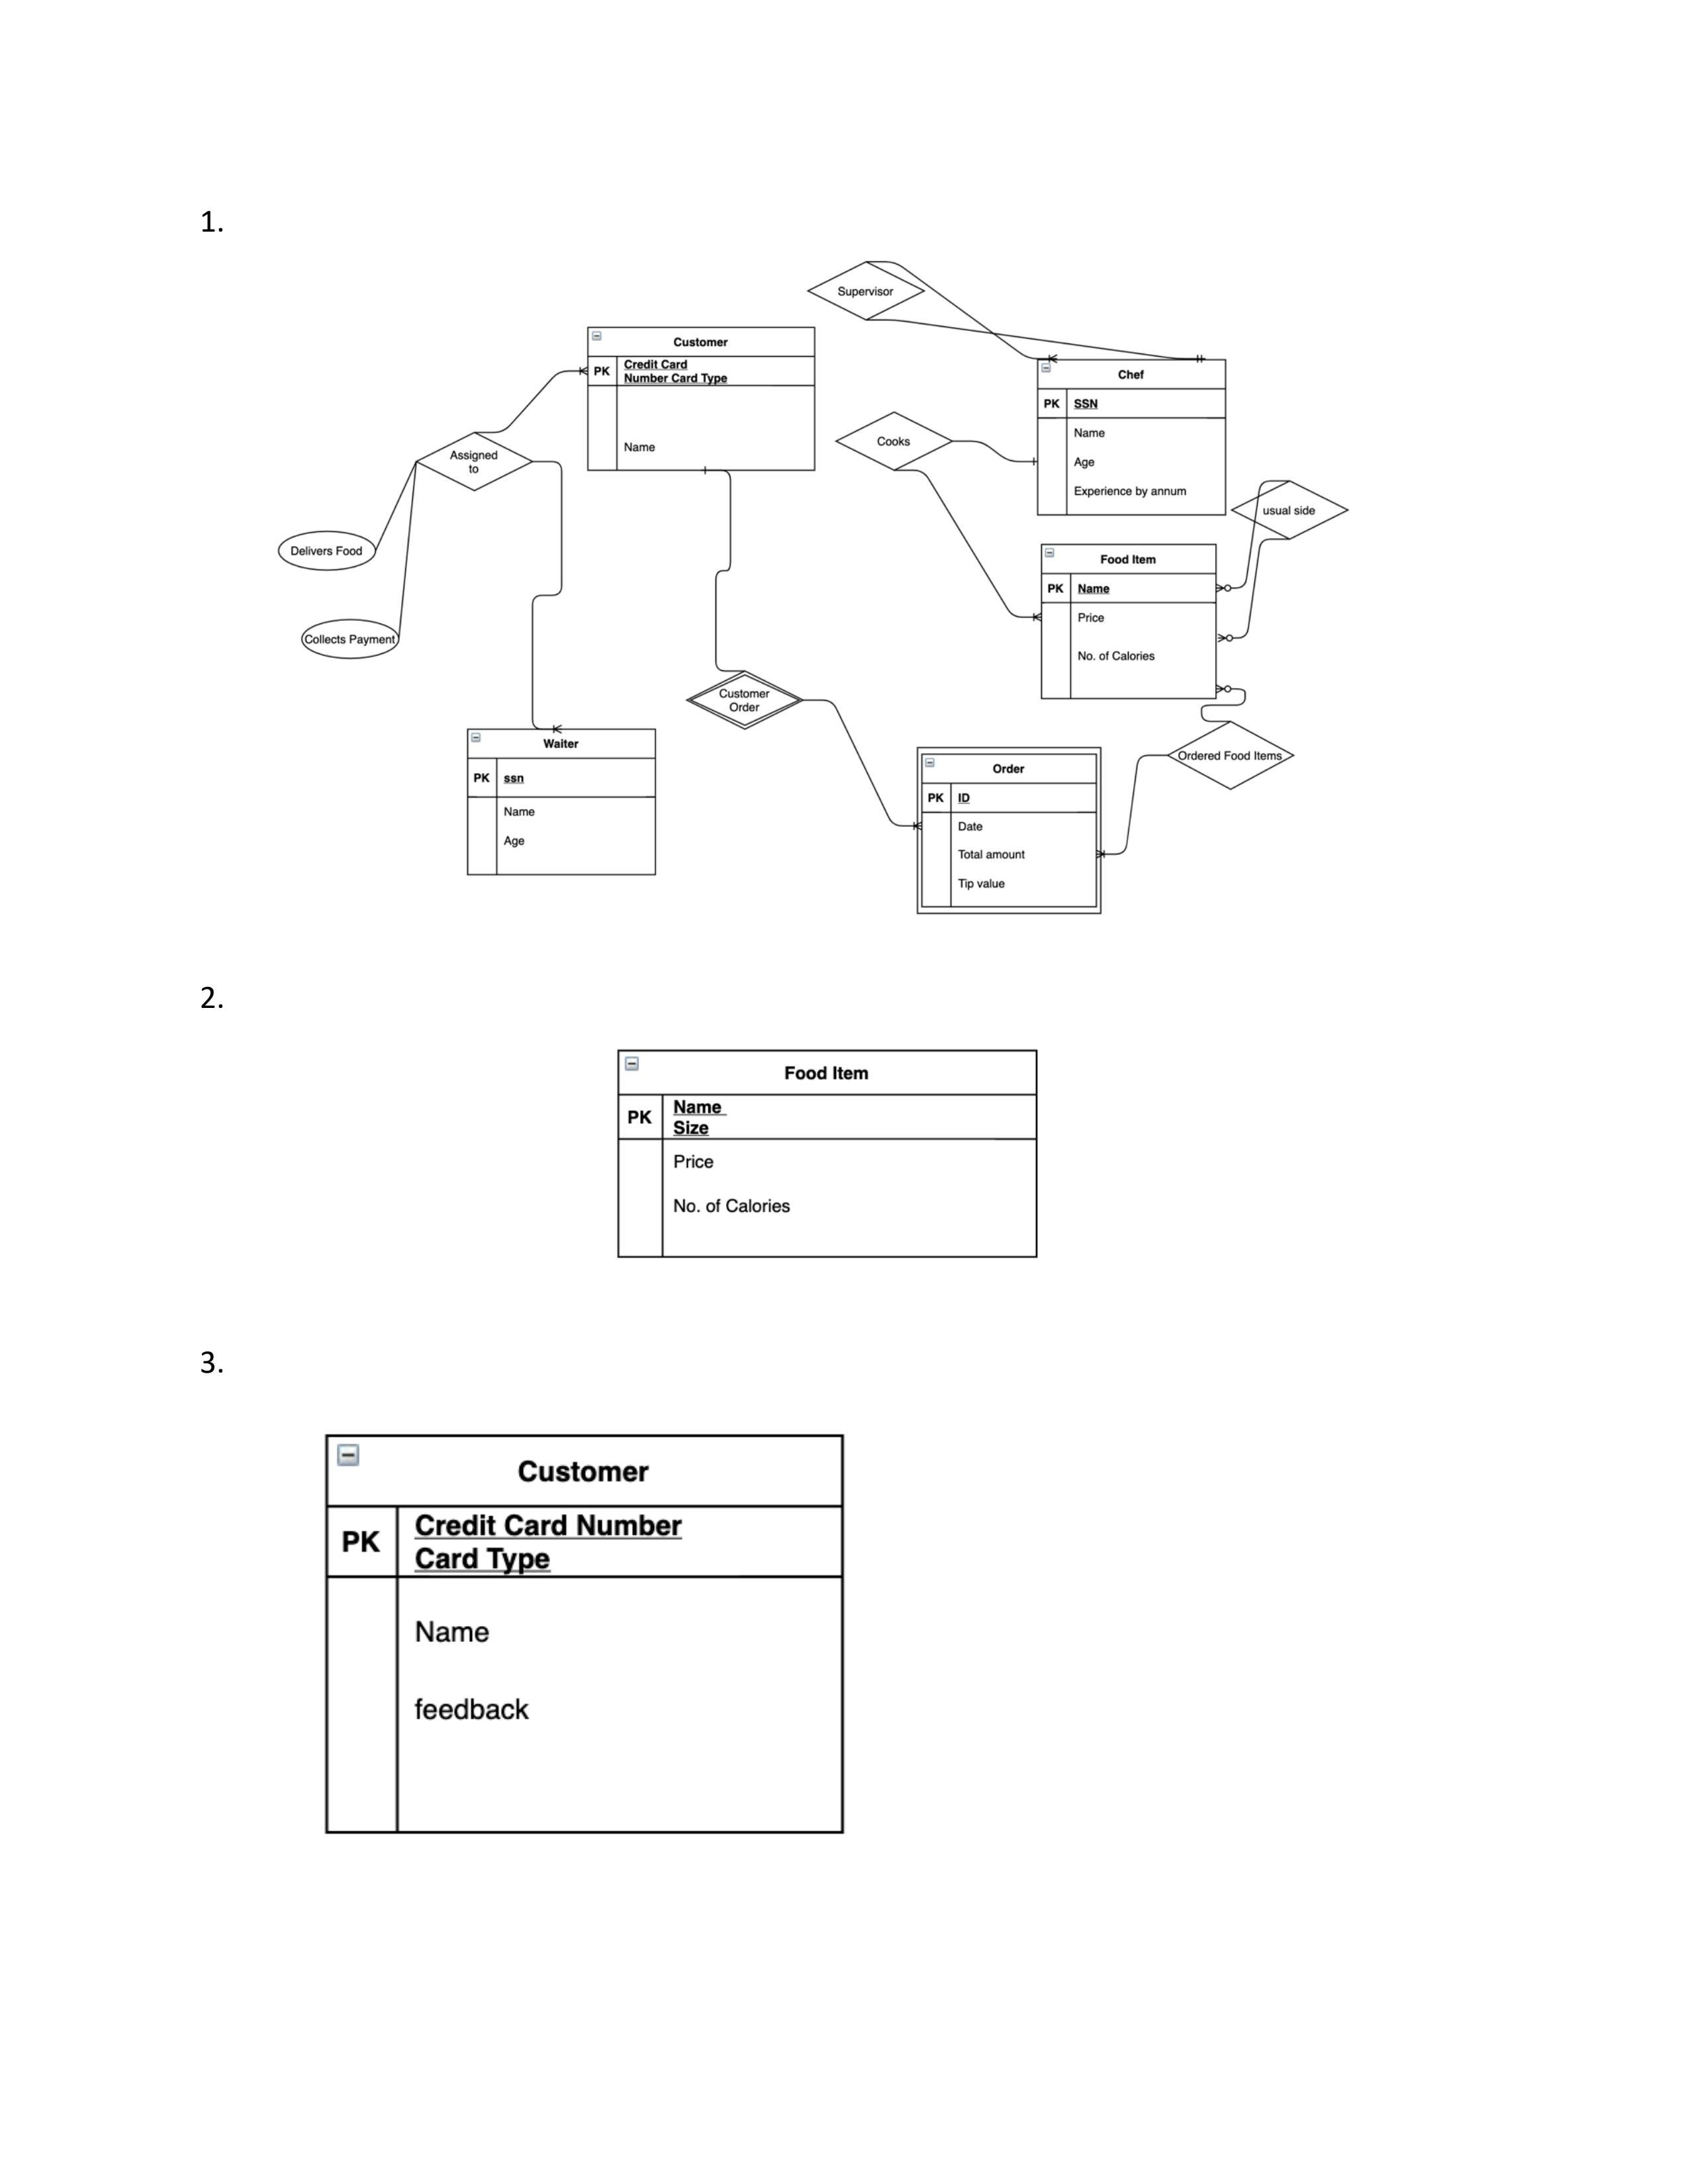Attribute: (278, 530, 378, 576), (298, 619, 401, 661)
Entity: (317, 1427, 855, 1844), (608, 1042, 1046, 1264), (585, 323, 819, 475), (1034, 356, 1229, 519), (463, 727, 660, 877), (1037, 541, 1220, 702), (920, 750, 1099, 909)
Relationship: (1172, 721, 1294, 791), (686, 668, 801, 736), (807, 259, 926, 321), (415, 431, 530, 493), (835, 409, 950, 470), (1231, 482, 1349, 537)
